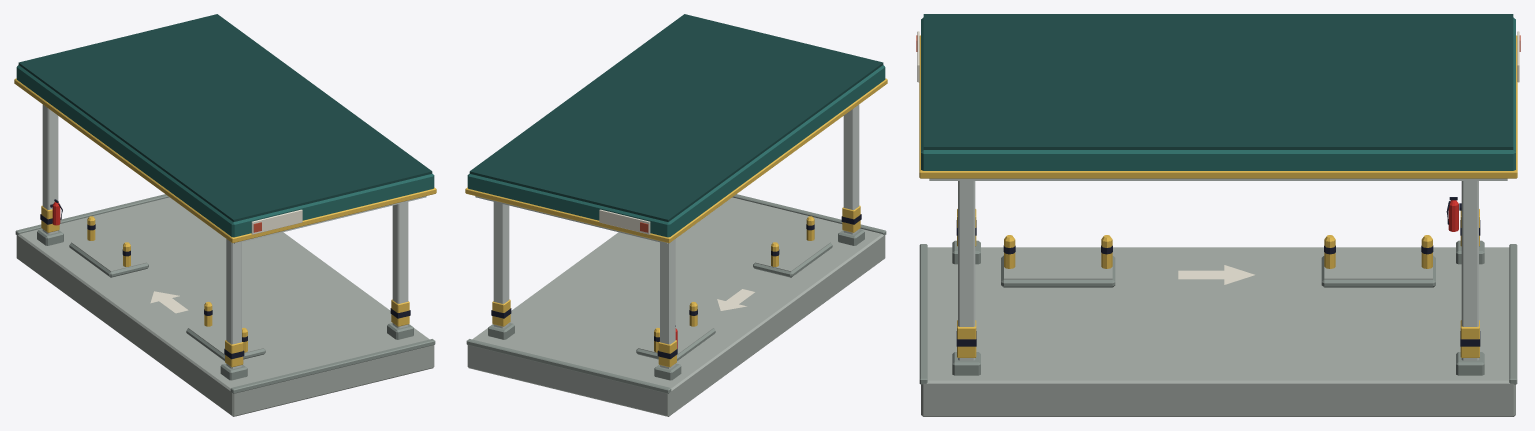
Rendered from sm_env_service_canopy.glb.
3 views of the same model, side by side, from view 1: azimuth 30°, elevation 25°; view 2: azimuth 150°, elevation 25°; view 3: azimuth 270°, elevation 25° (orthographic). The views are drawn at different scales.
Visible parts, largest first — view 1: CanopyCap, Slab, CanopyFascia, CanopyStripe, Column.003, Column, Column.001, SlabCurb.001, IslandTop, IslandTop.001, SlabCurb, CanopyBadge.001 (+3 smaller); view 2: CanopyCap, Slab, CanopyFascia, CanopyStripe, Column.002, Column.001, Column, SlabCurb, IslandTop.001, IslandTop, SlabCurb.001, CanopyBadge (+3 smaller); view 3: Slab, CanopyCap, CanopyFascia, CanopyStripe, Column.002, Column.003, IslandTop, IslandTop.001, CanopySoffit, SlabCurb.001, SlabCurb, Island (+2 smaller).
Boxes of the visible parts, box(x1,y1,x2,y2) form: CanopyCap: box(18, 14, 432, 221); Slab: box(16, 197, 434, 416); CanopyFascia: box(16, 65, 434, 237); CanopyStripe: box(14, 78, 436, 243); Column.003: box(392, 202, 408, 328); Column: box(42, 104, 58, 234); Column.001: box(226, 239, 241, 368); SlabCurb.001: box(230, 339, 435, 393); IslandTop: box(71, 233, 146, 271); IslandTop.001: box(188, 319, 263, 354); SlabCurb: box(15, 194, 169, 235); CanopyBadge.001: box(251, 209, 302, 234); CanopyCap: box(469, 14, 883, 221); Slab: box(467, 197, 885, 416); CanopyFascia: box(467, 65, 885, 237); CanopyStripe: box(465, 78, 887, 243); Column.002: box(493, 202, 509, 328); Column.001: box(843, 104, 859, 234); Column: box(660, 239, 675, 368); SlabCurb: box(466, 339, 671, 393); IslandTop.001: box(755, 233, 830, 271); IslandTop: box(638, 319, 713, 354); SlabCurb.001: box(732, 194, 886, 235); CanopyBadge: box(599, 209, 650, 234); Slab: box(921, 247, 1515, 416); CanopyCap: box(923, 14, 1513, 149); CanopyFascia: box(921, 17, 1515, 170); CanopyStripe: box(919, 35, 1517, 178); Column.002: box(1461, 181, 1478, 360); Column.003: box(958, 181, 975, 360); IslandTop: box(1324, 254, 1432, 279); IslandTop.001: box(1004, 254, 1112, 279); CanopySoffit: box(929, 178, 1507, 180); SlabCurb.001: box(919, 244, 927, 384); SlabCurb: box(1509, 244, 1517, 384); Island: box(1321, 255, 1435, 287).
Size of the model in its own units: 5.66 by 5.2 by 10.56.
